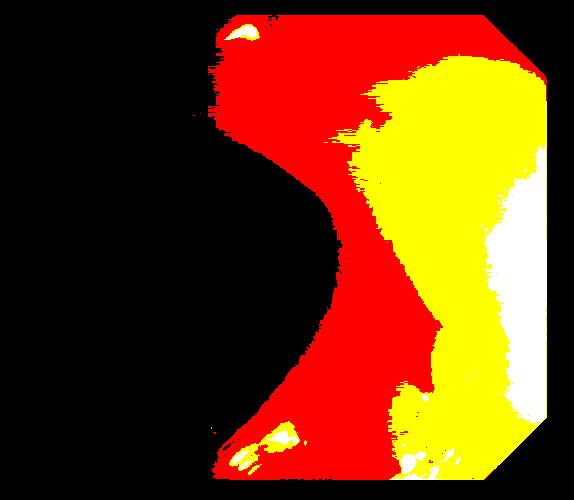polyp: (519, 135, 547, 181)
